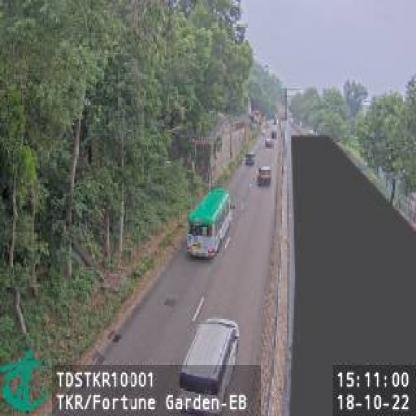Car: (175, 318, 240, 401), (257, 165, 272, 188), (244, 151, 256, 168), (265, 136, 273, 149)
Minibus: (185, 187, 235, 261)
